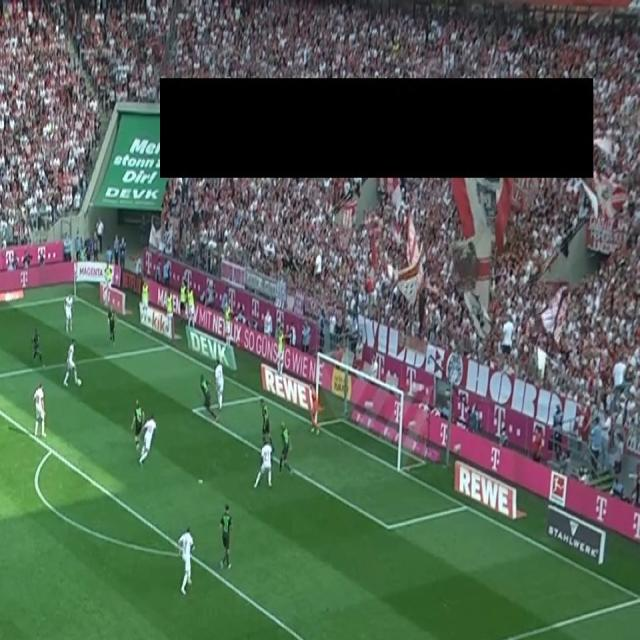ball: (76, 377, 82, 388)
